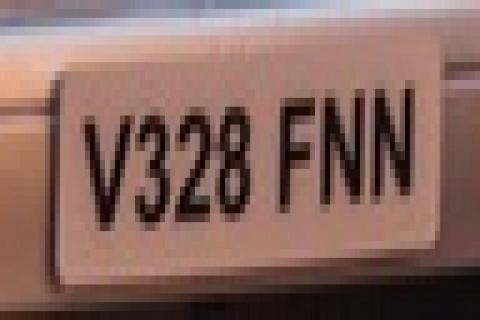LicensePlate: (43, 46, 468, 292)
